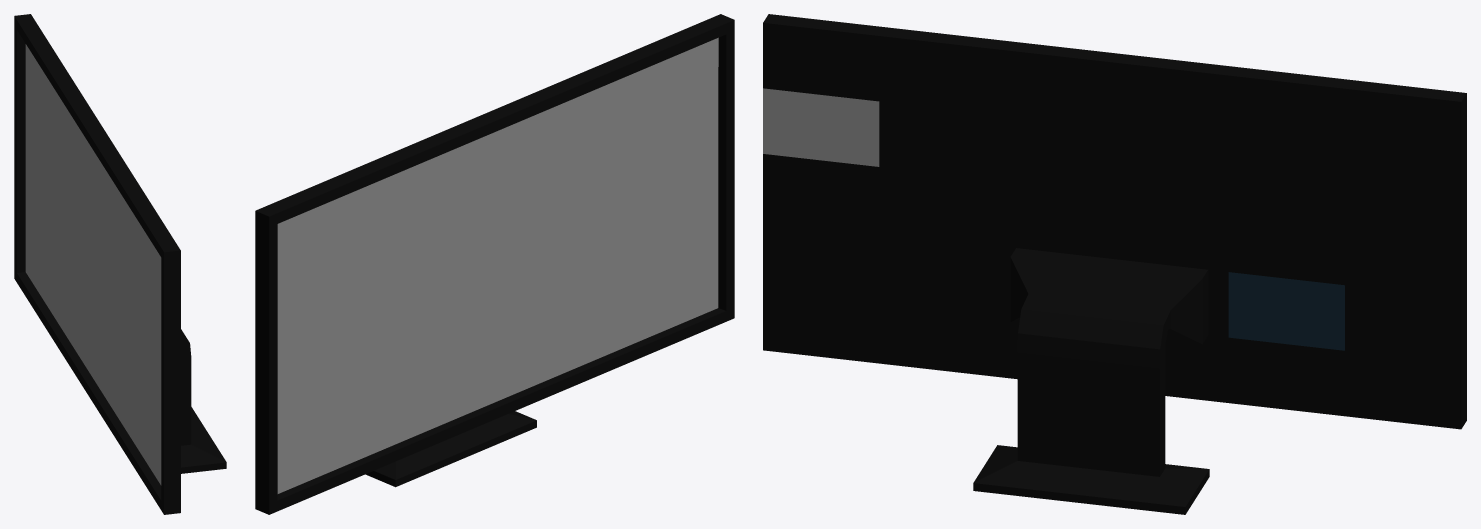
The model's file is monitor.FBX.
3 renders of one model, left to right at view 1: azimuth 30°, elevation 25°; view 2: azimuth 150°, elevation 25°; view 3: azimuth 270°, elevation 25°, orthographic. The views are drawn at different scales.
Visible parts, largest first — view 1: monitor; view 2: monitor; view 3: monitor.
Boxes of the visible parts, x1,y1,x2,y2 form: monitor: [14, 14, 226, 514]; monitor: [255, 14, 734, 514]; monitor: [763, 14, 1466, 514].
Size of the model in its own units: 15.58 by 25.2 by 41.34.
